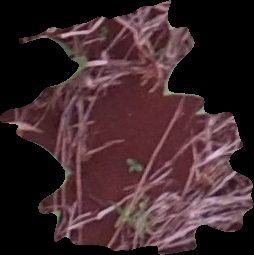soil: (2, 3, 250, 250)
